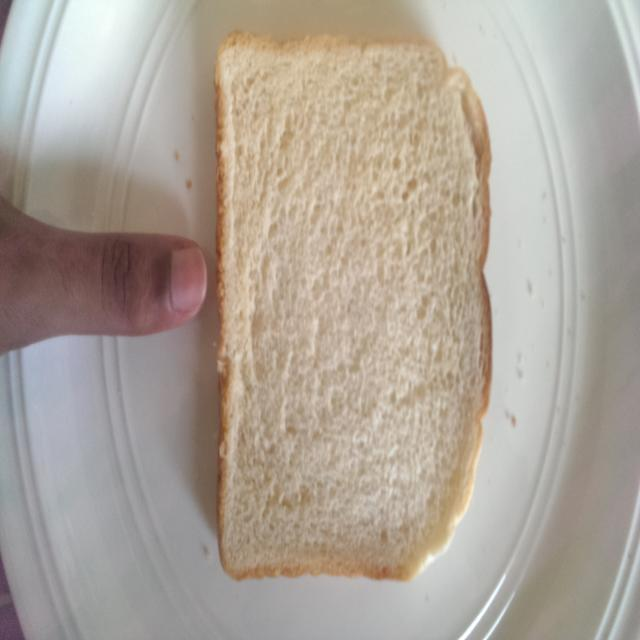Bread: (211, 17, 497, 603)
Finger: (84, 216, 214, 348)
